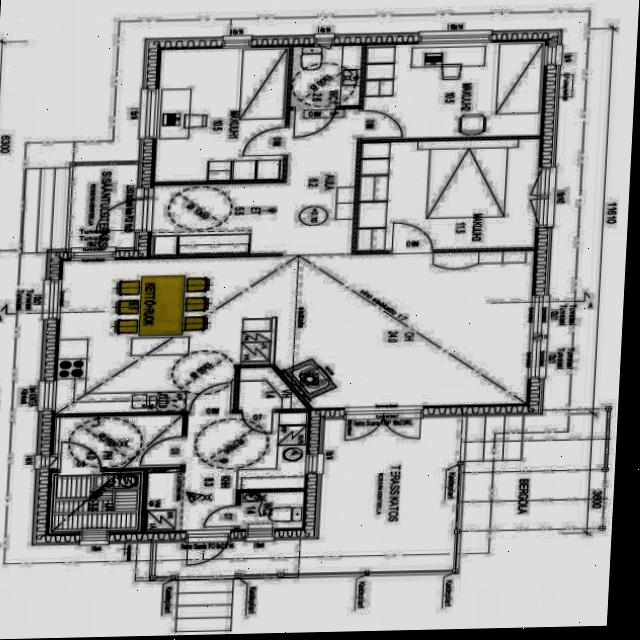room: (353, 139, 541, 251), (154, 41, 288, 189), (359, 42, 543, 139), (50, 415, 183, 470), (47, 471, 144, 534), (288, 45, 363, 107), (236, 367, 306, 410), (237, 492, 304, 529)
